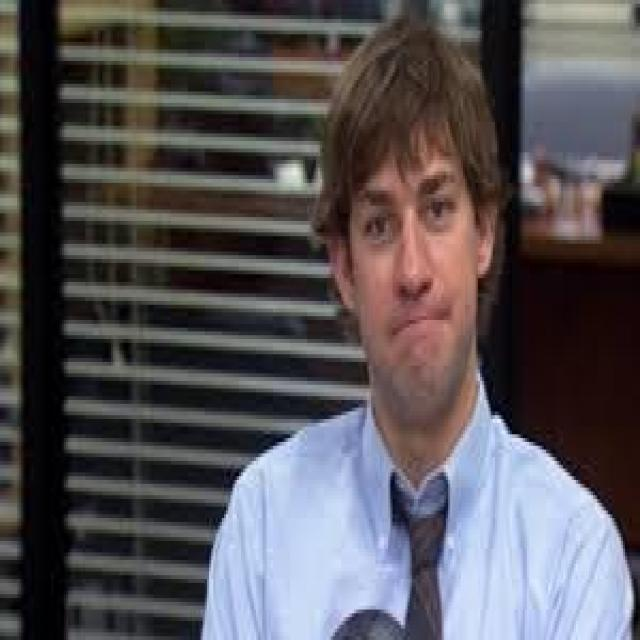person: (205, 19, 629, 636)
